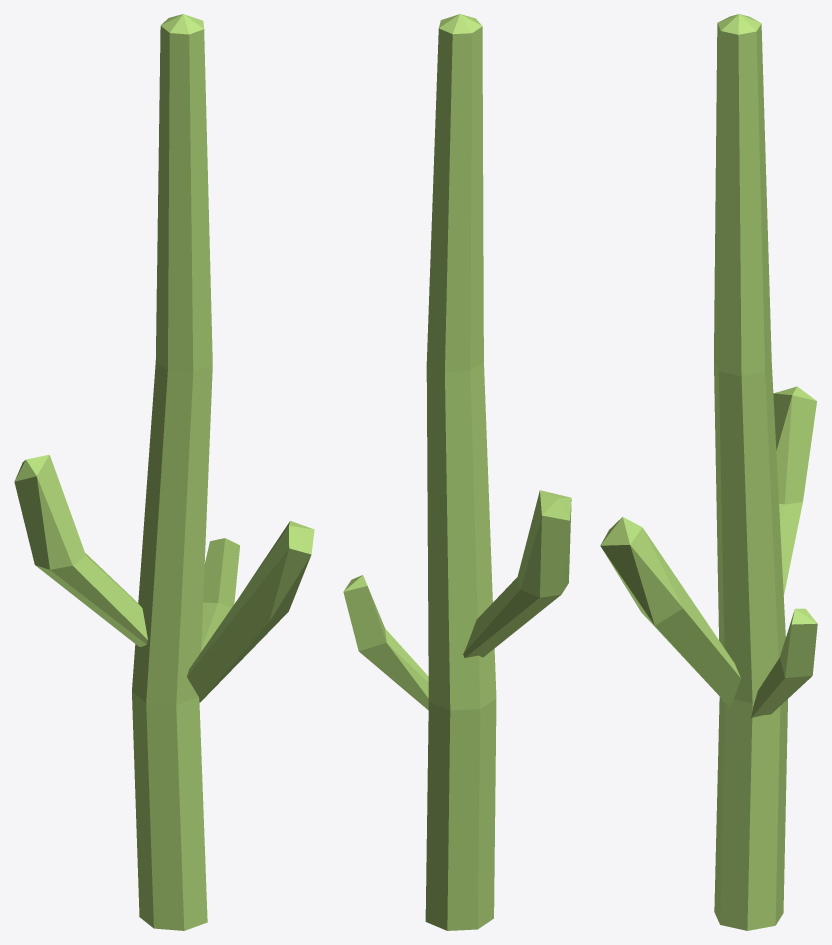
The model's file is Cactus_l_BT_01.fbx.
3 views of the same model, side by side, from view 1: azimuth 30°, elevation 25°; view 2: azimuth 150°, elevation 25°; view 3: azimuth 270°, elevation 25° (orthographic).
Visible parts, largest first — view 1: Cactus_l_BT_01; view 2: Cactus_l_BT_01; view 3: Cactus_l_BT_01.
Part boxes in pixels (x1,y1,x2,y2): Cactus_l_BT_01: (14,14,314,930); Cactus_l_BT_01: (343,14,571,930); Cactus_l_BT_01: (600,14,817,930).
Size of the model in its own units: 172 by 669 by 146.
